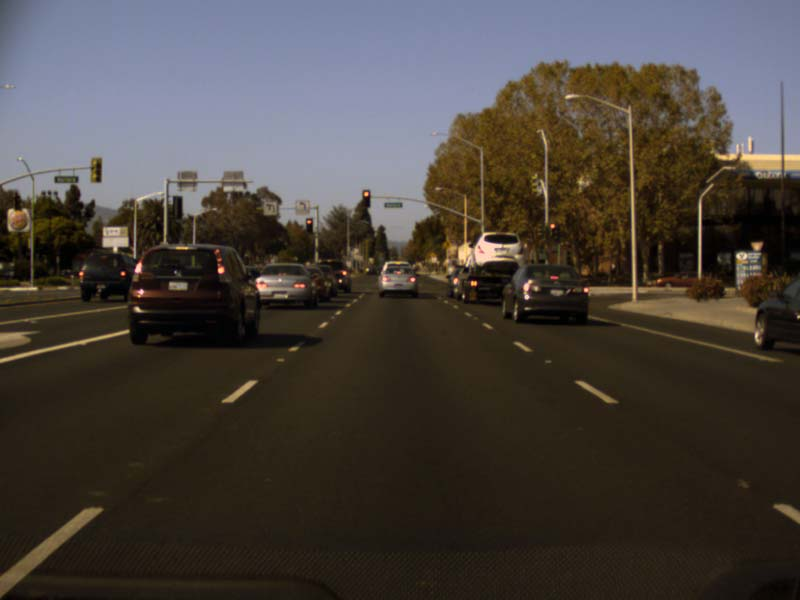Red: (362, 189, 370, 207), (305, 217, 313, 233)
